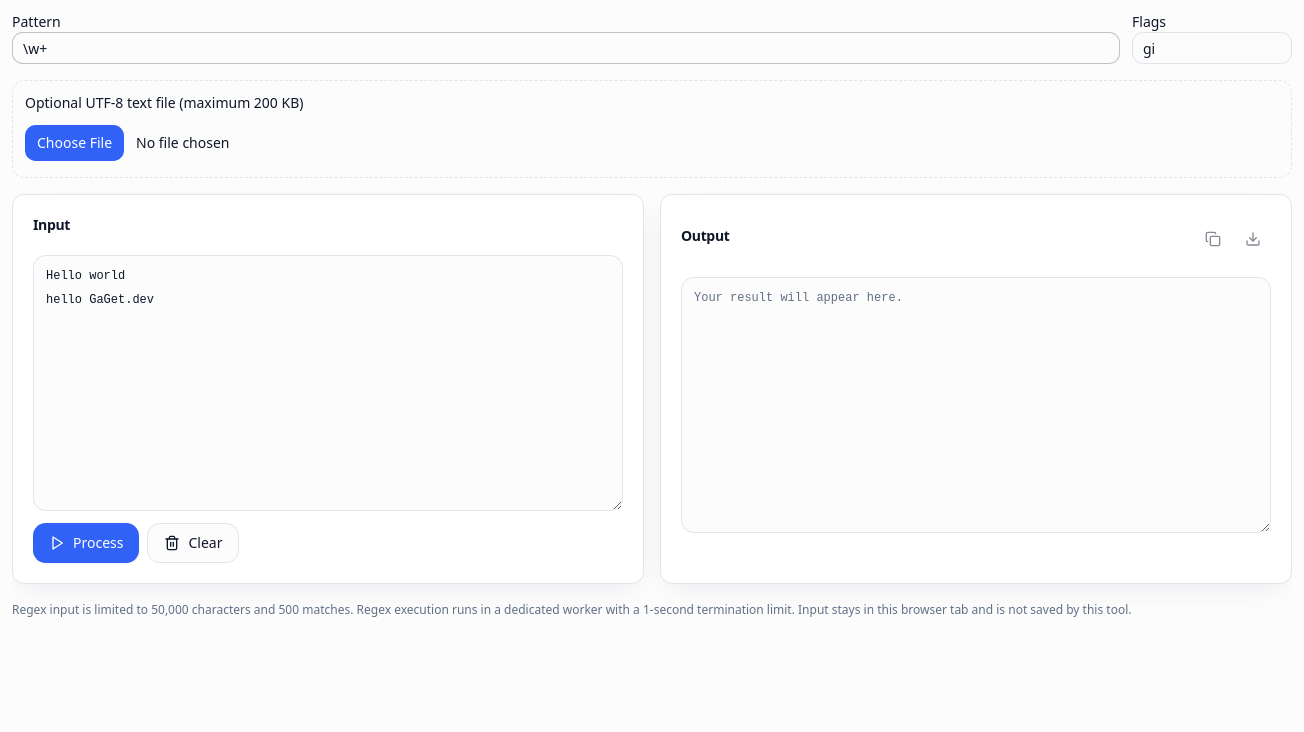
Scenario: DeveloperToolWorkbench › surfaces malformed regex syntax without clearing the sample
Replace the text in the field named "Regular expression pattern" with "[" at (566, 48), box [12,32,1120,64]
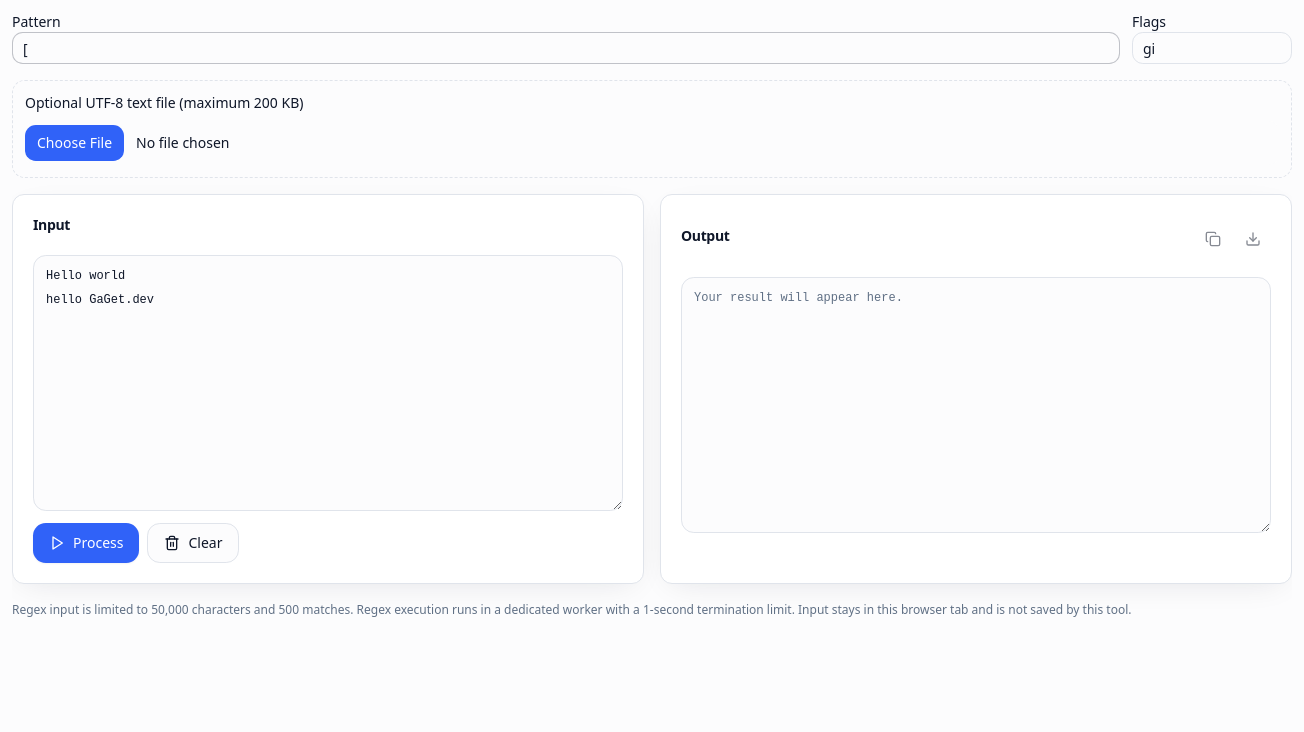
Click the button "Process".
click(86, 543)  # box [33,523,140,563]
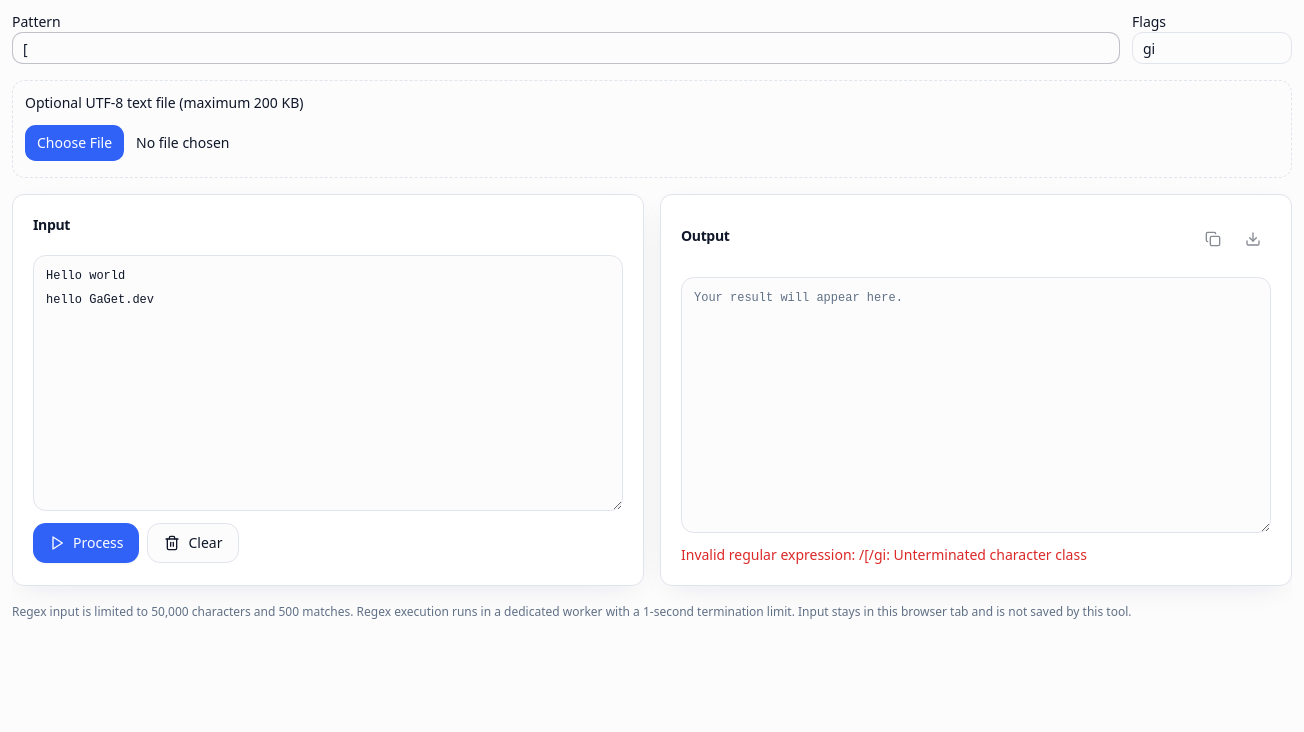
Check: the message "Invalid regular expression: /[/gi: Unterminated character class" is shown, box [681,545,1087,564]
